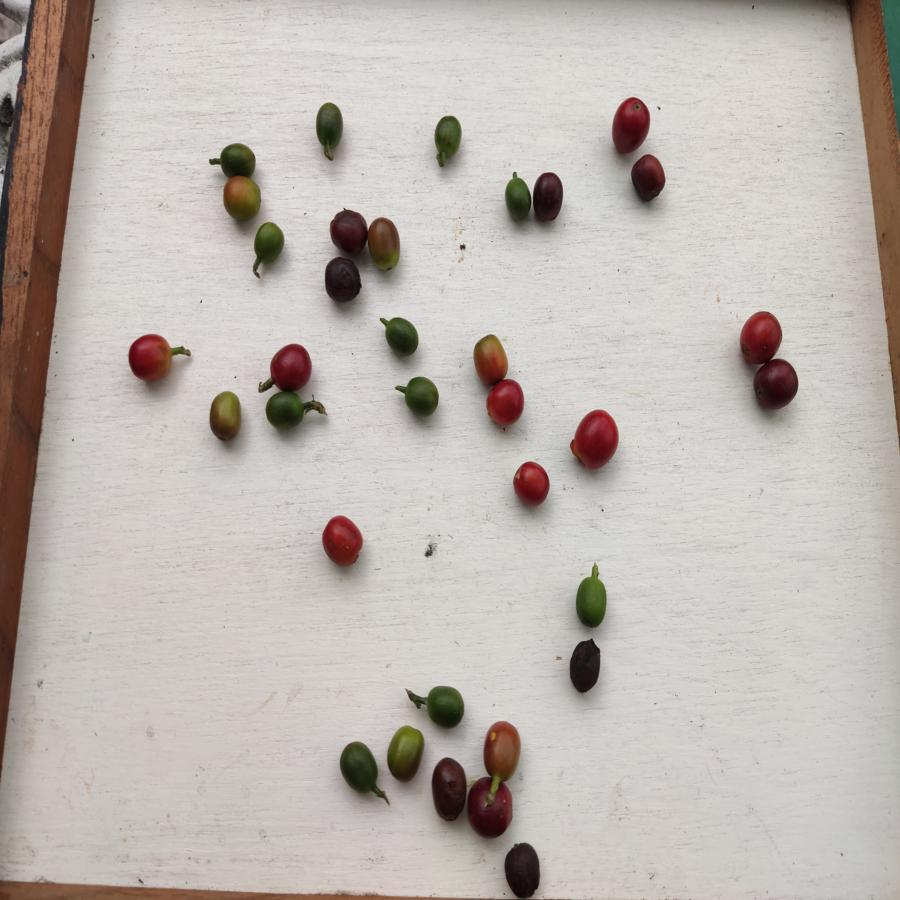Inmaduro: (341, 740, 379, 801), (572, 575, 611, 627), (423, 684, 465, 728), (263, 392, 308, 431), (402, 373, 440, 418), (381, 318, 424, 356), (313, 102, 347, 147), (217, 142, 258, 178), (504, 173, 533, 223), (253, 219, 286, 262), (433, 114, 465, 158)
Maduro: (569, 407, 618, 468), (126, 333, 173, 388), (321, 514, 365, 568), (738, 308, 782, 360), (612, 96, 650, 153), (508, 460, 554, 506), (270, 343, 313, 389), (486, 378, 525, 428)
Pinton: (479, 720, 522, 778), (205, 391, 246, 447), (382, 726, 423, 782), (366, 213, 403, 274), (219, 176, 265, 222), (471, 334, 508, 383)
Sobremaduro: (466, 777, 514, 840), (753, 358, 803, 415), (431, 758, 465, 823), (566, 640, 604, 694), (505, 841, 542, 896), (327, 208, 368, 257), (630, 151, 668, 202), (532, 169, 564, 228), (323, 256, 363, 303)
